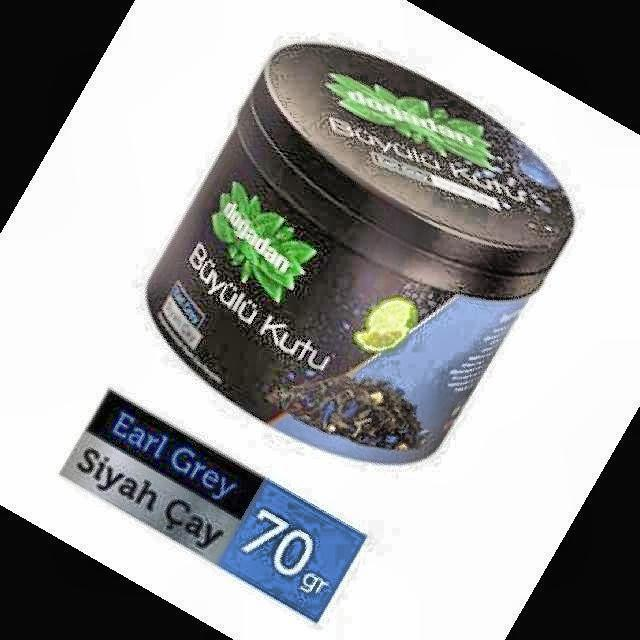plastic: (148, 44, 575, 462)
